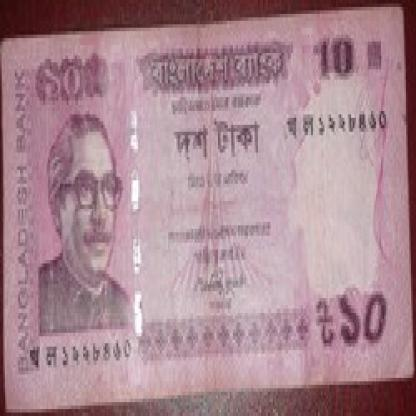Ten Taka: (338, 284, 398, 354), (311, 31, 361, 87), (36, 59, 96, 104)
